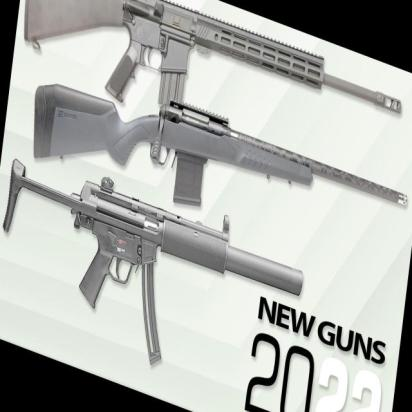Gun: (3, 155, 304, 364), (33, 77, 409, 209), (23, 0, 404, 118)
